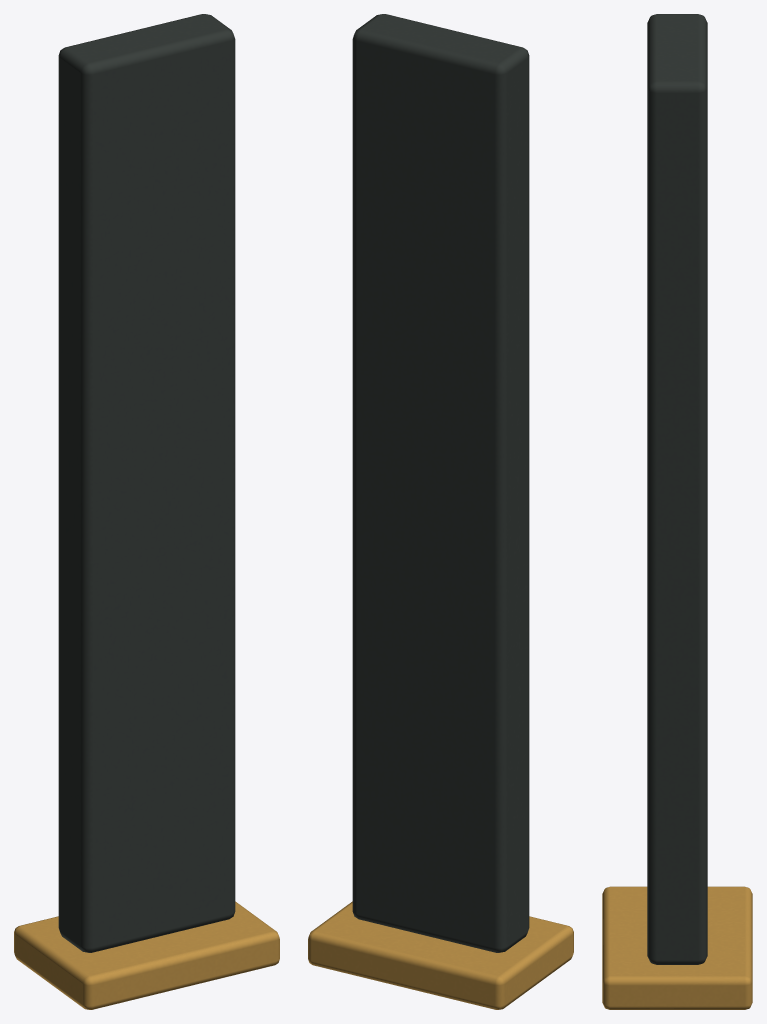
The model's file is sign-totem.glb.
3 views of the same model, side by side, from view 1: azimuth 30°, elevation 25°; view 2: azimuth 150°, elevation 25°; view 3: azimuth 270°, elevation 25° (orthographic).
Parts seen in each view (by area): view 1: totem_body, totem_base; view 2: totem_body, totem_base; view 3: totem_body, totem_base.
Part boxes in pixels (box(x1,y1,x2,y2)): totem_body: box(58, 14, 235, 952); totem_base: box(14, 901, 279, 1009); totem_body: box(352, 14, 529, 952); totem_base: box(308, 901, 573, 1009); totem_body: box(647, 14, 707, 964); totem_base: box(602, 886, 752, 1009).
Bounding box in the file's own units: 0.6 × 2.7 × 0.4.
Materials: 2 (2 with a texture image).
